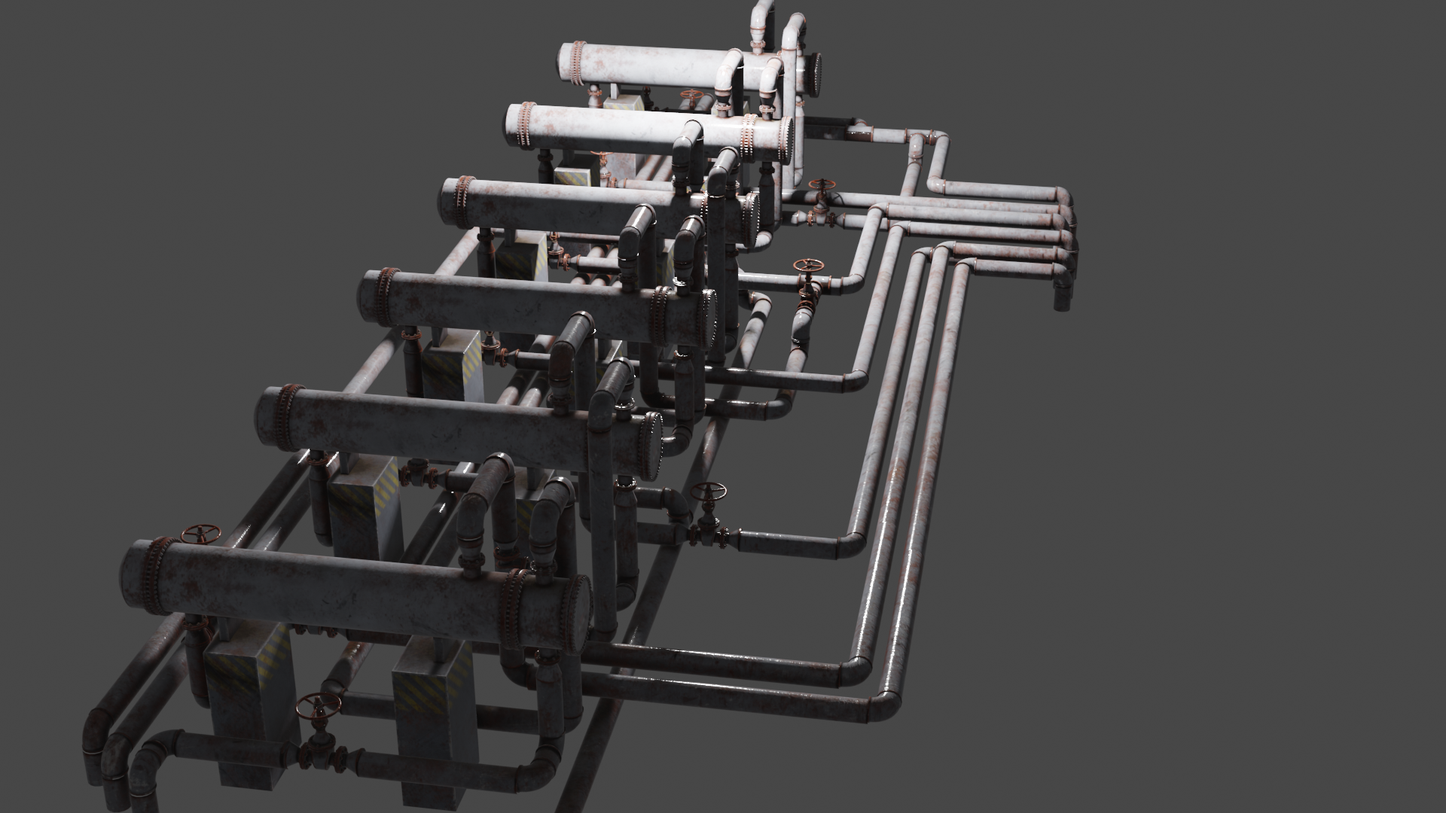HE_1: (111, 535, 598, 655)
HE_2: (254, 383, 666, 475)
HE_3: (355, 268, 720, 347)
HE_4: (432, 176, 762, 244)
HE_5: (501, 100, 794, 160)
HE_6: (554, 36, 821, 99)
